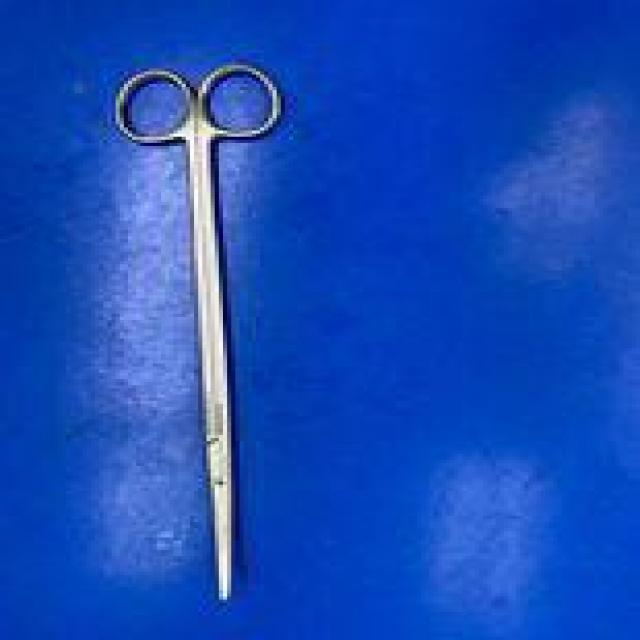Mayo_metz: (108, 59, 294, 606)
